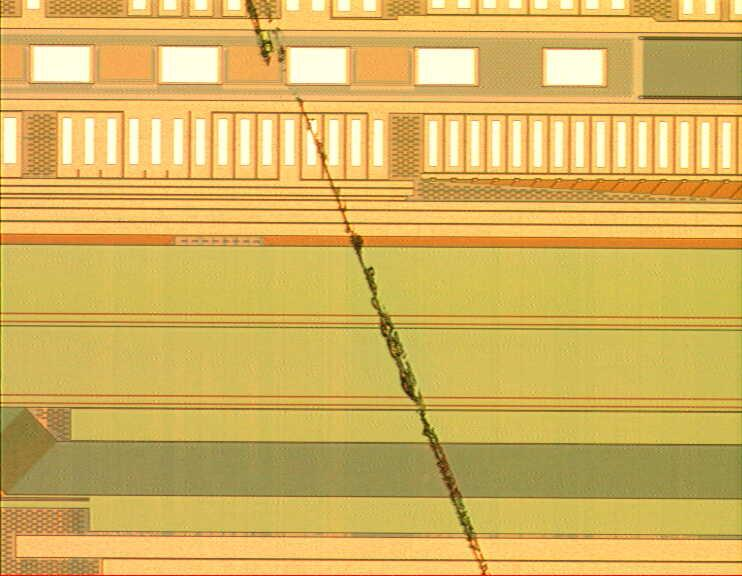SCRATCH: (231, 1, 505, 576)
